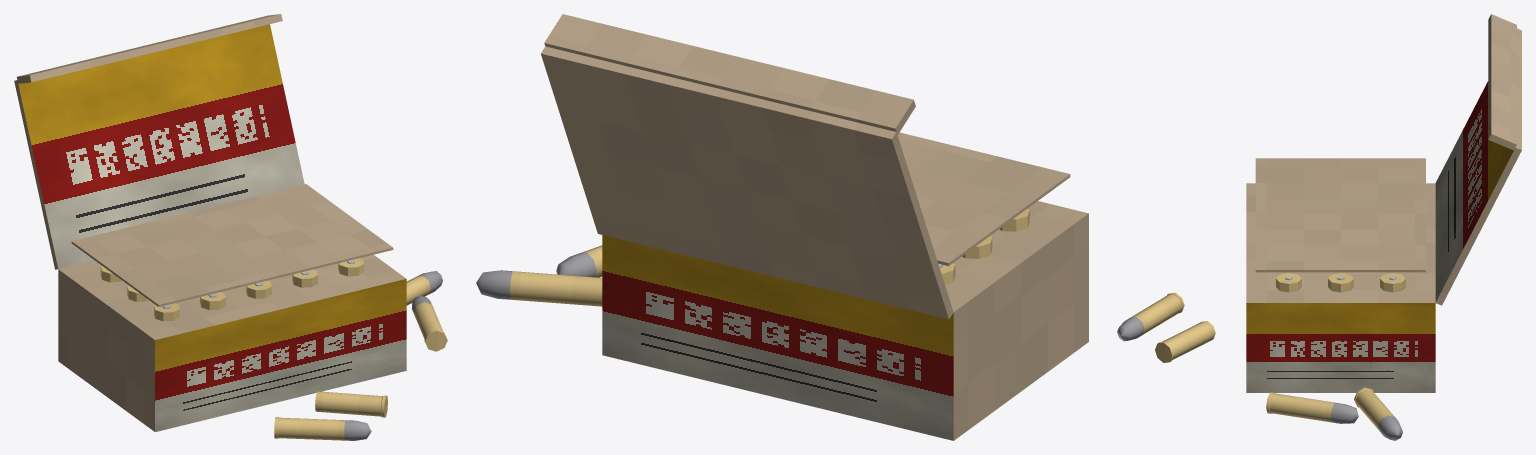
File: item_ammo_box.glb
3 views of the same model, side by side, from view 1: azimuth 30°, elevation 25°; view 2: azimuth 150°, elevation 25°; view 3: azimuth 270°, elevation 25° (orthographic). The views are drawn at different scales.
Parts seen in each view (by area): view 1: ammo; view 2: ammo; view 3: ammo.
Boxes of the visible parts, left/top/right/bottom form: ammo: left=14, top=14, right=447, bottom=440; ammo: left=476, top=14, right=1088, bottom=440; ammo: left=1117, top=14, right=1521, bottom=440.
Bounding box in the file's own units: 0.1726 × 0.1209 × 0.1712.
Materials: 5 (5 with a texture image).
